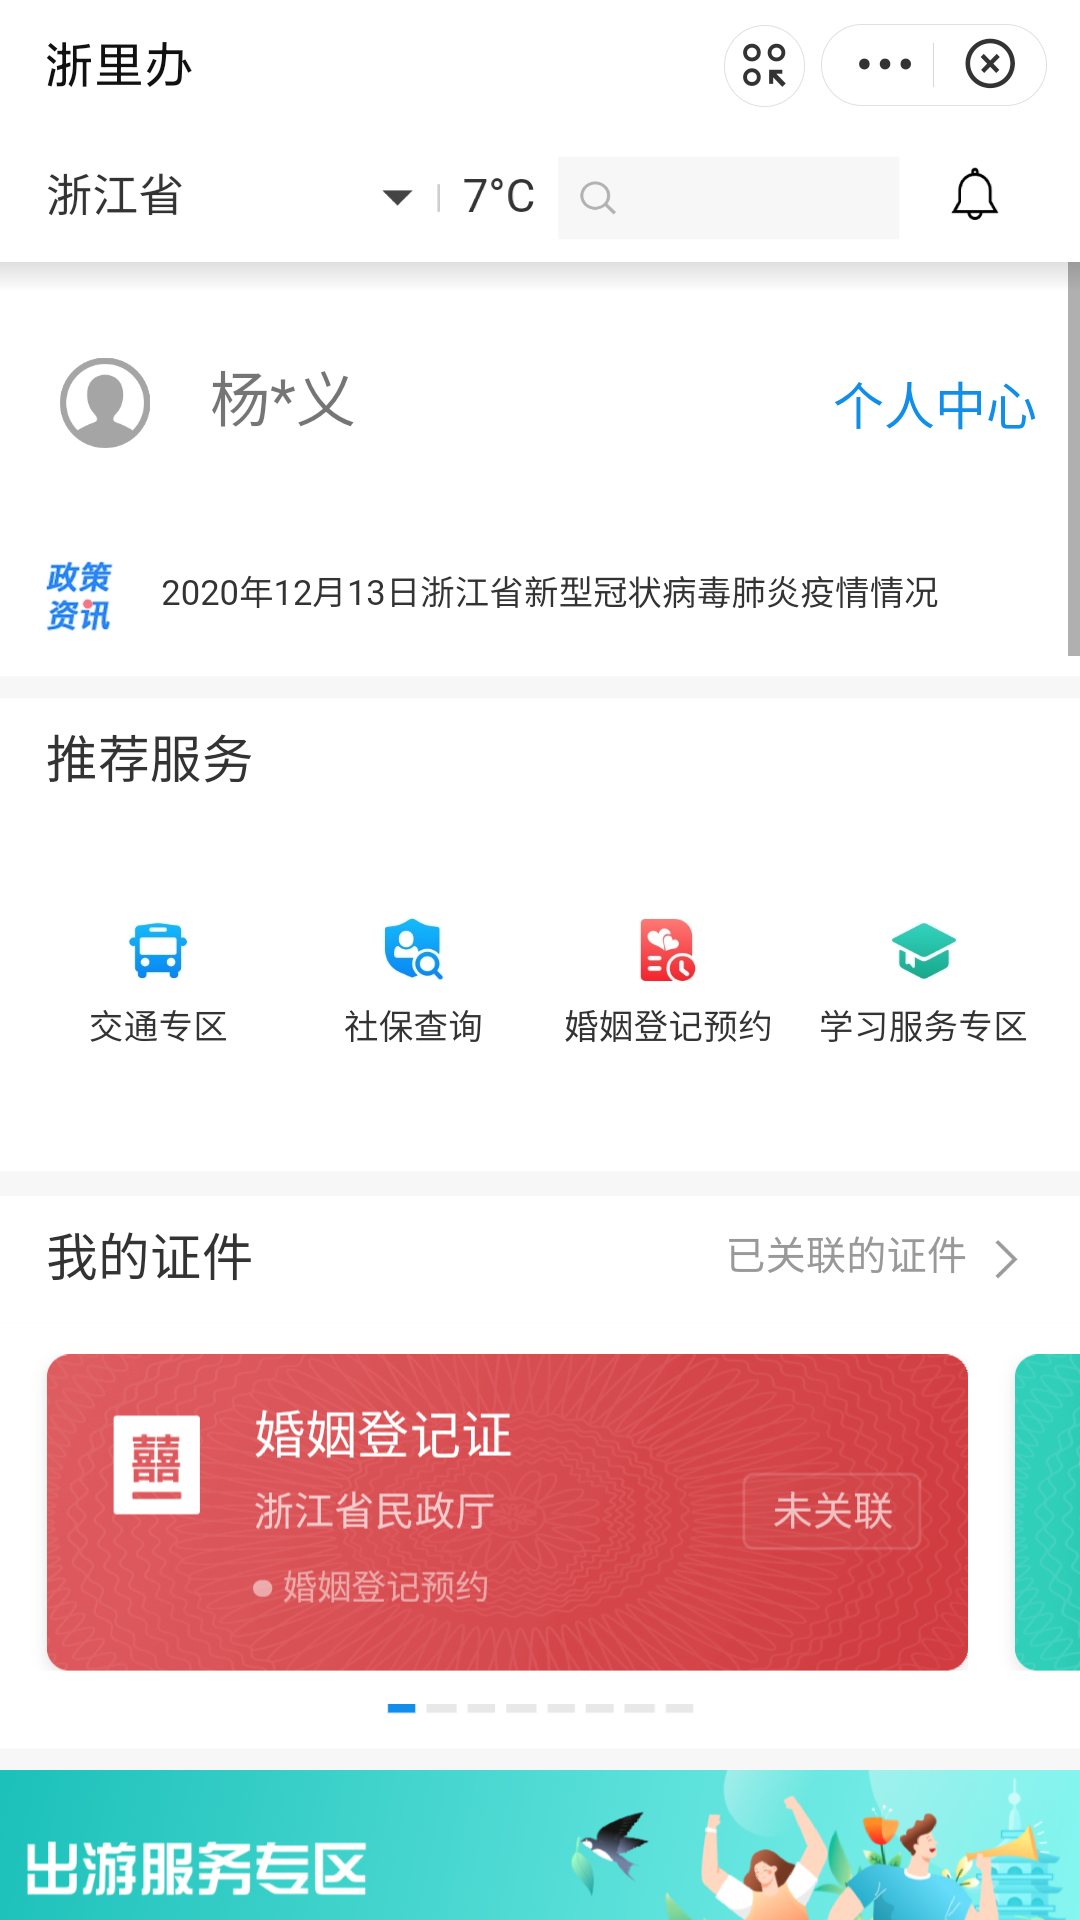

Named icons in this screenshot (1080x1920) and their centers, point (x, y):
act close: point (934, 65)
user: point (105, 403)
